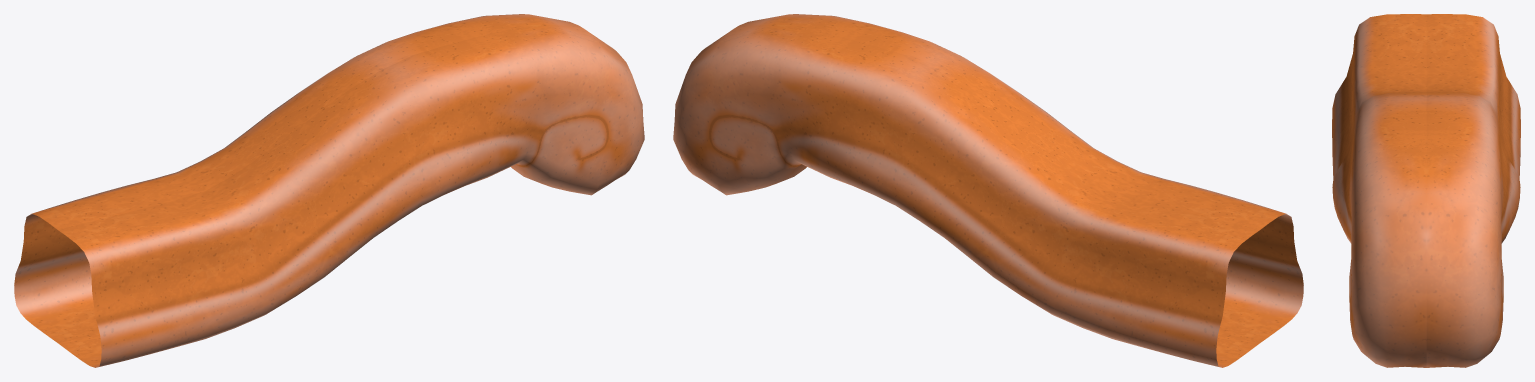
The model's file is tejado_3.fbx.
3 renders of one model, left to right at view 1: azimuth 30°, elevation 25°; view 2: azimuth 150°, elevation 25°; view 3: azimuth 270°, elevation 25°, orthographic. The views are drawn at different scales.
Visible parts, largest first — view 1: ZBrush_defualt_group; view 2: ZBrush_defualt_group; view 3: ZBrush_defualt_group.
Part boxes in pixels (x1,y1,x2,y2): ZBrush_defualt_group: (14, 14, 644, 367); ZBrush_defualt_group: (673, 14, 1303, 367); ZBrush_defualt_group: (1332, 14, 1520, 367).
Bounding box in the file's own units: 341 × 117 × 90.98.
1 material, 1 textured.
